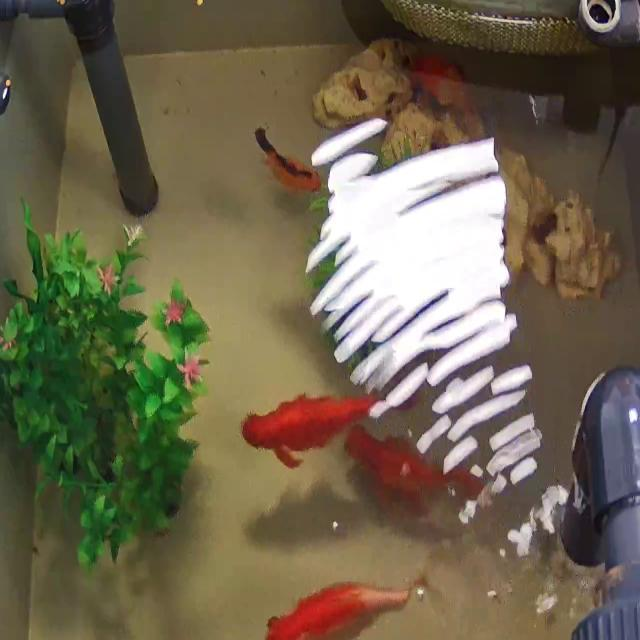fish: (350, 424, 466, 514), (258, 575, 418, 640), (245, 392, 366, 468), (255, 126, 319, 195), (407, 52, 468, 106)
